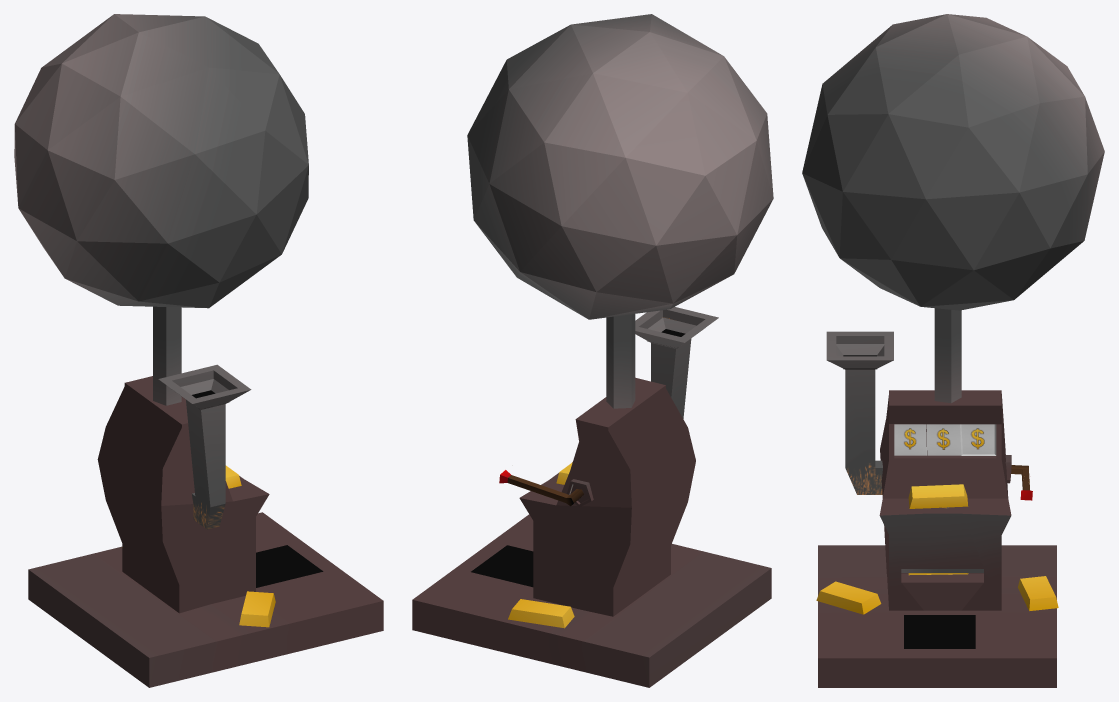
Rendered from base_bandit2.fbx.
3 views of the same model, side by side, from view 1: azimuth 30°, elevation 25°; view 2: azimuth 150°, elevation 25°; view 3: azimuth 270°, elevation 25° (orthographic). The views are drawn at different scales.
Visible parts, largest first — view 1: Icosphere, Cube.011, Cube, Cylinder, Cube.009; view 2: Icosphere, Cube.011, Cube, Cylinder, Cube.009, Cube.016; view 3: Icosphere, Cube.011, Cube, Cube.003, Cylinder, Cube.009.
Boxes of the visible parts, <box> form: Icosphere: <box>14,14,308,308</box>; Cube.011: <box>97,364,275,627</box>; Cube: <box>28,512,383,687</box>; Cylinder: <box>153,306,181,405</box>; Cube.009: <box>256,545,323,587</box>; Icosphere: <box>467,14,773,319</box>; Cube.011: <box>508,307,718,628</box>; Cube: <box>412,514,771,687</box>; Cylinder: <box>606,314,635,408</box>; Cube.009: <box>471,545,533,587</box>; Cube.016: <box>499,470,583,506</box>; Icosphere: <box>802,14,1104,310</box>; Cube.011: <box>816,331,1058,614</box>; Cube: <box>818,545,1056,687</box>; Cube.003: <box>894,424,996,455</box>; Cylinder: <box>934,308,961,403</box>; Cube.009: <box>904,615,975,648</box>.
Size of the model in its own units: 2152 by 4321 by 2018.
Materials: 2 (2 with a texture image).
